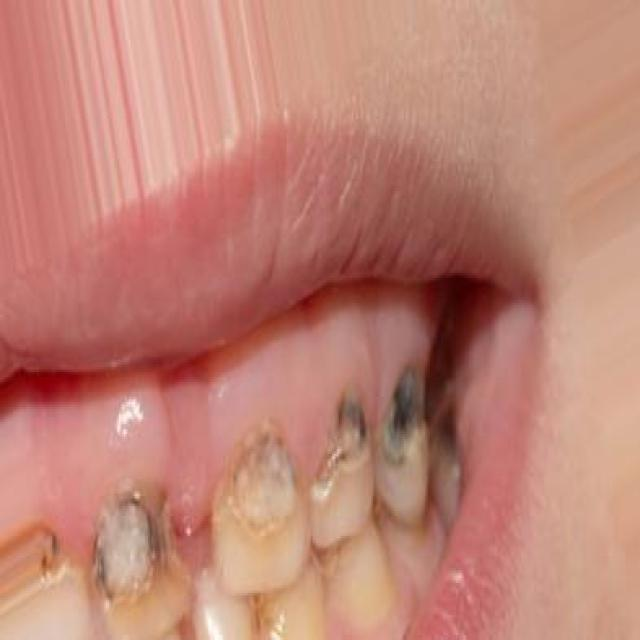caries: (84, 492, 172, 624), (218, 420, 302, 555), (380, 368, 434, 520), (311, 396, 373, 506), (36, 526, 77, 600)
